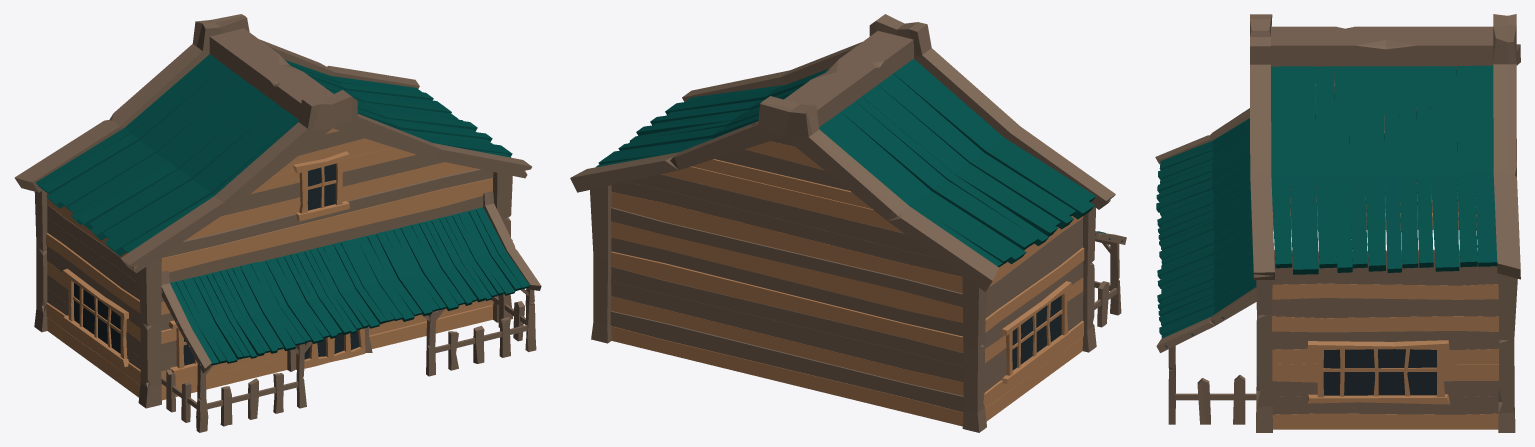
File: Building_Trading_post.fbx
3 views of the same model, side by side, from view 1: azimuth 30°, elevation 25°; view 2: azimuth 150°, elevation 25°; view 3: azimuth 270°, elevation 25° (orthographic). The views are drawn at different scales.
Visible parts, largest first — view 1: Building_Trading_post; view 2: Building_Trading_post; view 3: Building_Trading_post.
Boxes of the visible parts, x1,y1,x2,y2 form: Building_Trading_post: (14, 14, 541, 432); Building_Trading_post: (570, 14, 1126, 432); Building_Trading_post: (1155, 14, 1520, 432).
Bounding box in the file's own units: 1061 × 725 × 665.
